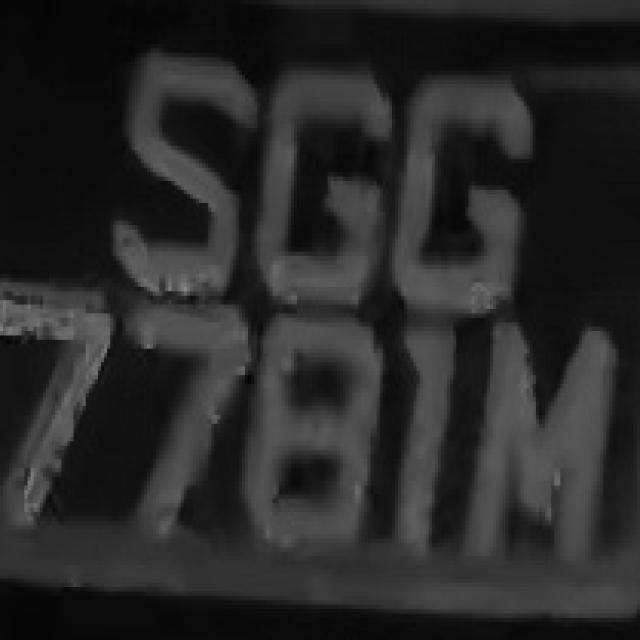1: (386, 314, 459, 560)
7: (126, 287, 245, 552), (12, 269, 114, 521)
8: (254, 296, 380, 556)
G: (398, 49, 533, 318), (260, 53, 386, 318)
M: (462, 305, 618, 578)
S: (110, 18, 242, 300)
